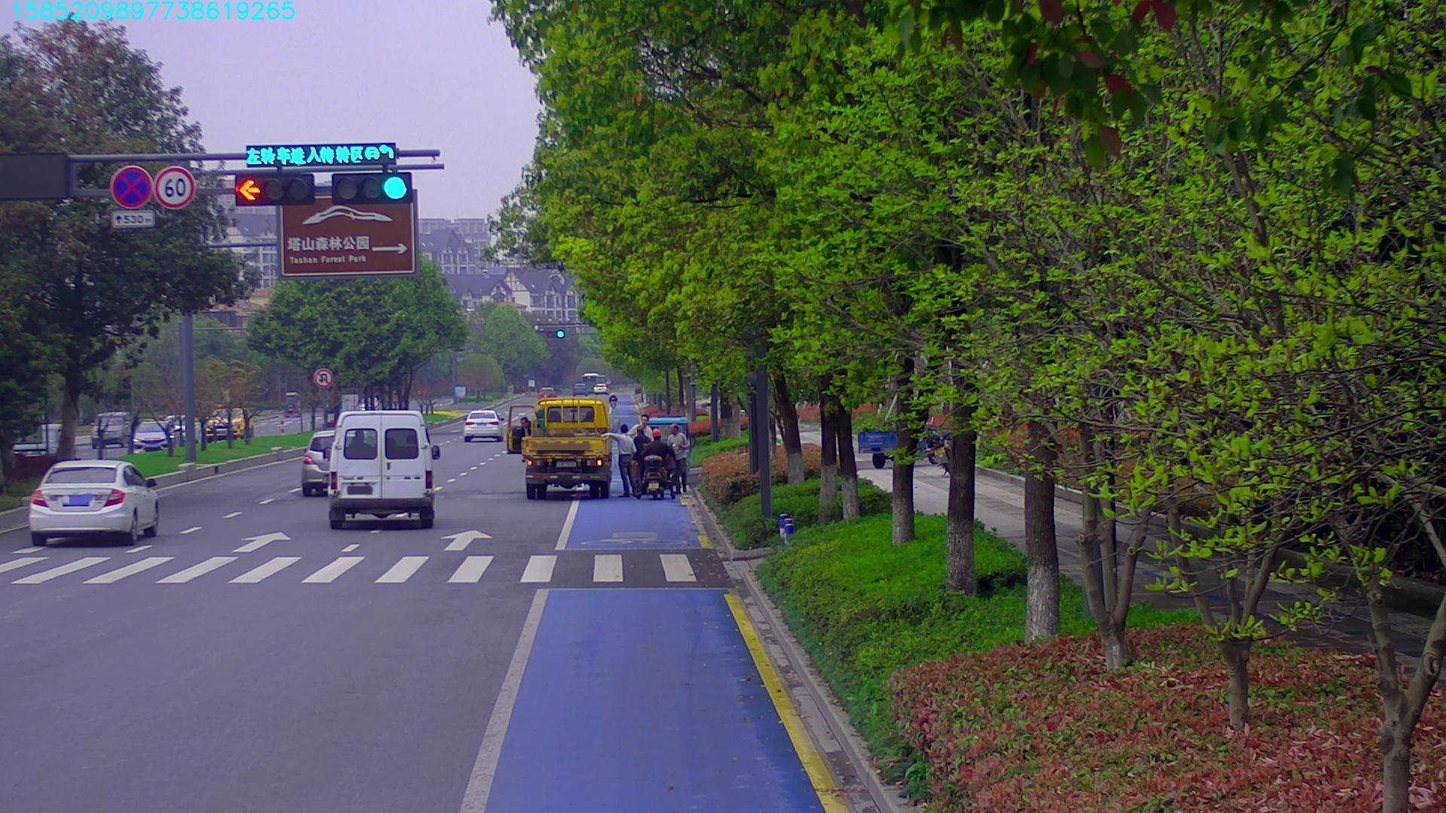green: (324, 165, 405, 209)
red: (233, 177, 308, 202)
wait_on: (246, 146, 392, 166)
